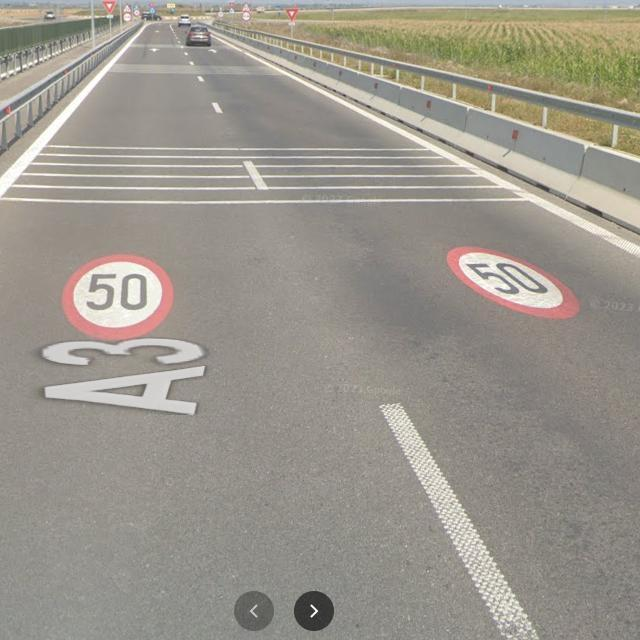forb_speed_over_50: (445, 240, 585, 322), (62, 251, 178, 343)
prio_give_way: (102, 1, 117, 15), (285, 8, 299, 22)
